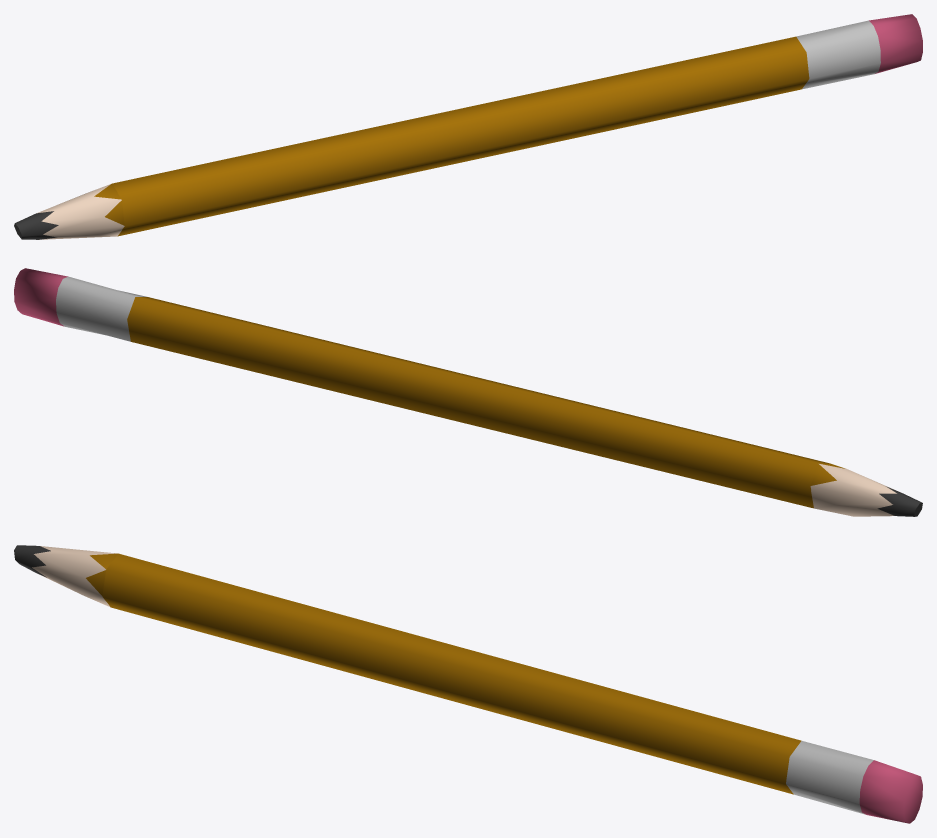
File: pencil 1.fbx
The picture shows the model from 3 angles, top to bottom: view 1: azimuth 30°, elevation 25°; view 2: azimuth 150°, elevation 25°; view 3: azimuth 330°, elevation 25°; orthographic projection. The views are drawn at different scales.
Parts seen in each view (by area): view 1: pCylinder2; view 2: pCylinder2; view 3: pCylinder2.
Part boxes in pixels (x1,y1,x2,y2): pCylinder2: (14,14,922,239); pCylinder2: (14,268,922,516); pCylinder2: (14,545,922,823).
Size of the model in its own units: 25.04 by 1.6 by 1.58.
